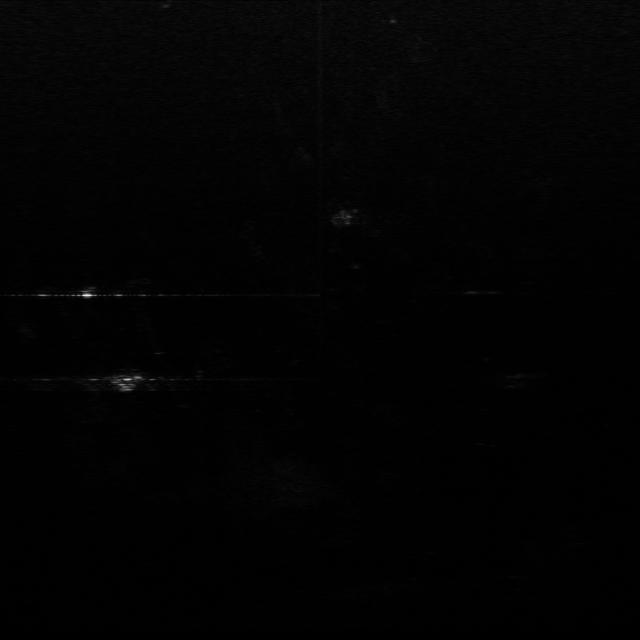rov: (108, 374, 146, 395)
